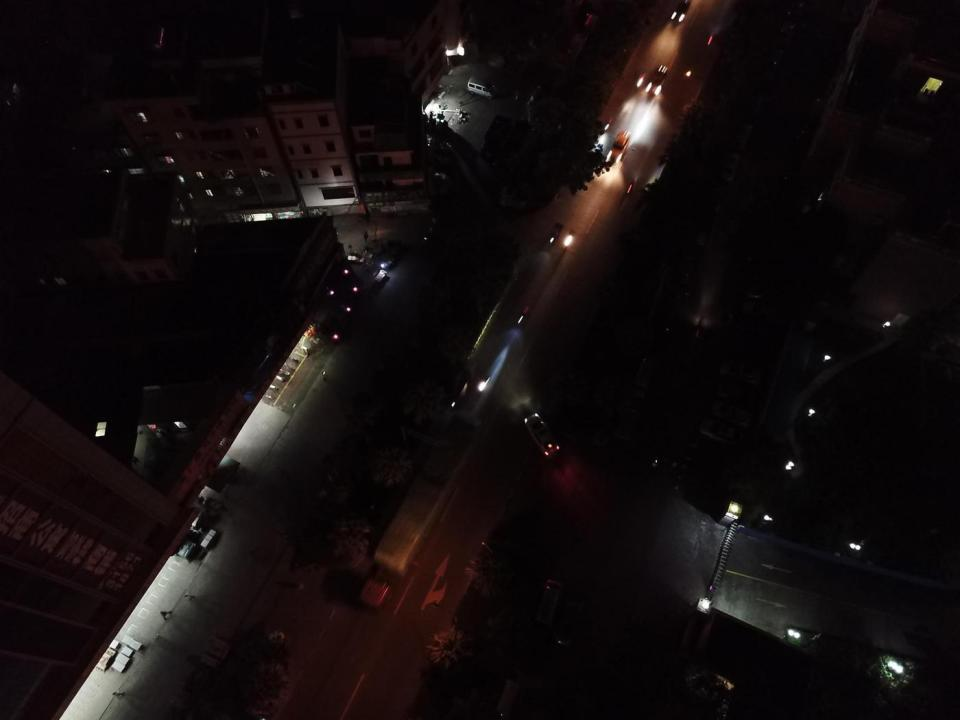car: (523, 412, 560, 460), (606, 131, 630, 164), (645, 65, 669, 96), (567, 32, 590, 58), (670, 0, 693, 24)
truck: (357, 439, 475, 609)
van: (536, 578, 564, 627), (466, 76, 498, 100)
